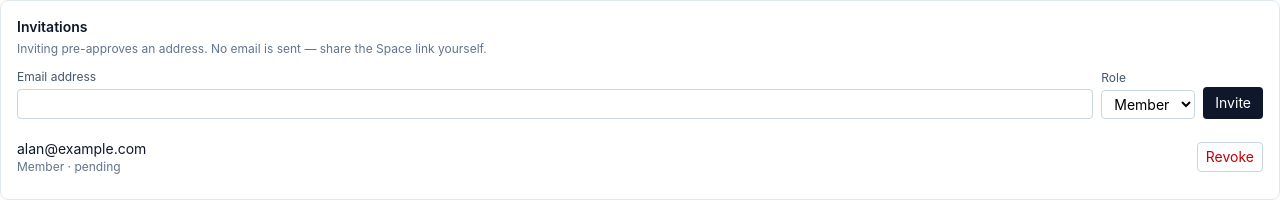
it: InvitationsPanel › revokes a pending invitation and keeps the row as history
Click the button with test id "invitation-revoke-20" at (1230, 157), box [1197,142,1263,172]
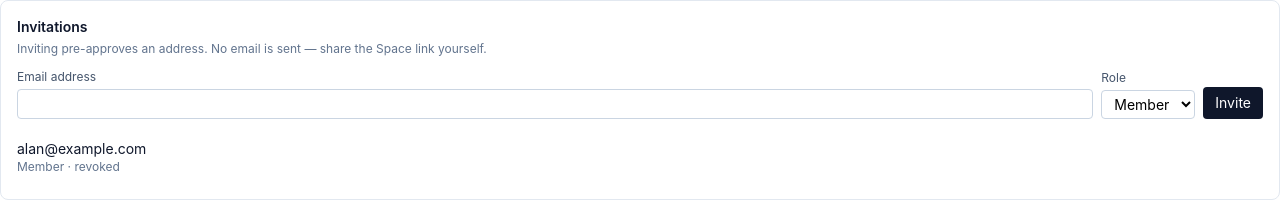
Expected: the list item with test id "invitation-20" is shown, [17,140,146,174]
Now the text with test id "invitation-status-20" reads "revoked", box [74,159,120,174]
Now the button with test id "invitation-revoke-20" is gone
